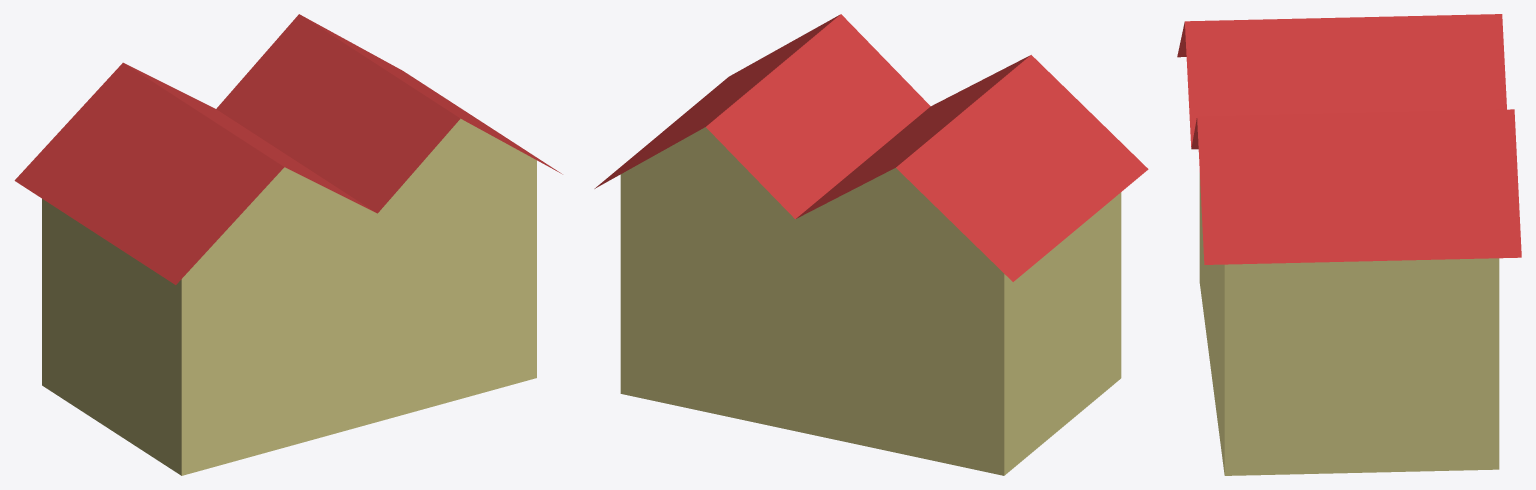
3 renders of one model, left to right at view 1: azimuth 30°, elevation 25°; view 2: azimuth 150°, elevation 25°; view 3: azimuth 270°, elevation 25°, orthographic. The views are drawn at different scales.
Size of the model in its own units: 17.99 by 12.02 by 12.03.
